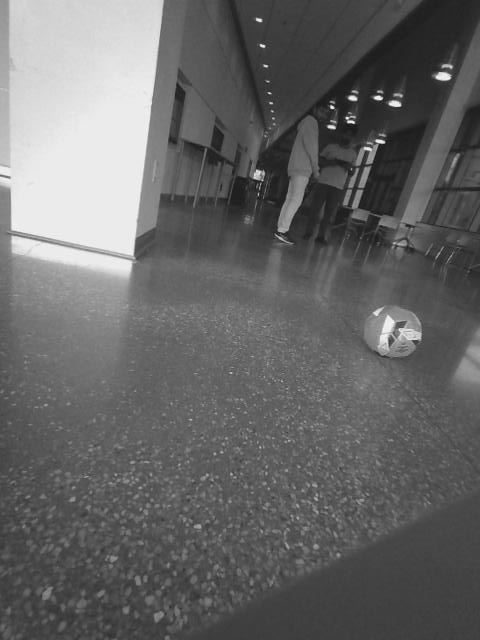ball: (360, 303, 425, 360)
